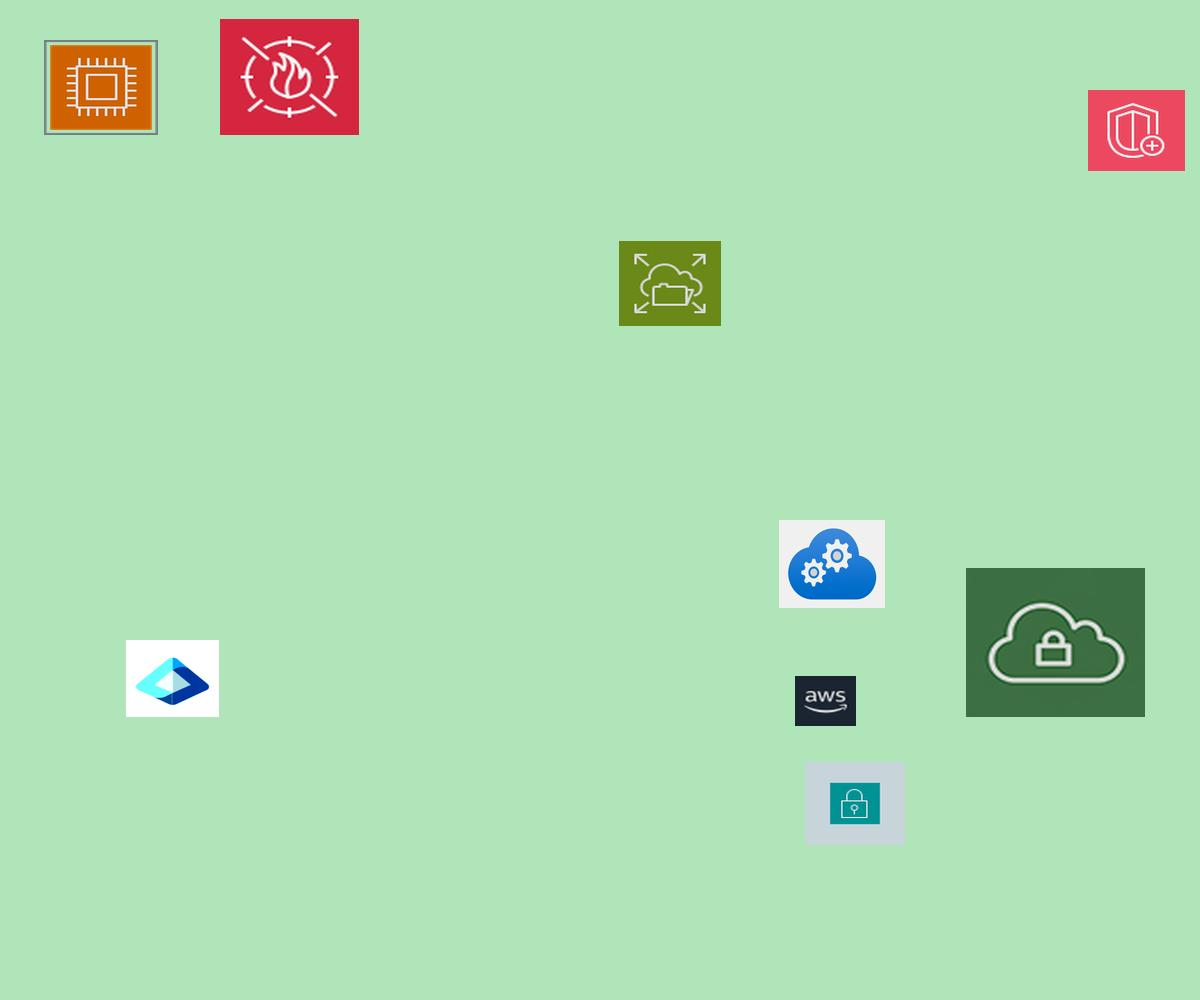AWS-Category_Compute: (44, 40, 158, 135)
AWS-Cloud-logo: (795, 676, 856, 726)
AWS-EFS: (619, 241, 721, 326)
AWS-Private-subnet: (805, 762, 905, 845)
AWS-Private_vpc: (966, 568, 1145, 717)
AWS-Shield: (1088, 90, 1185, 171)
AWS-WAF: (220, 19, 359, 135)
Azure_cloud_services: (779, 520, 885, 608)
Azure_microsoft_entra: (126, 640, 219, 717)
